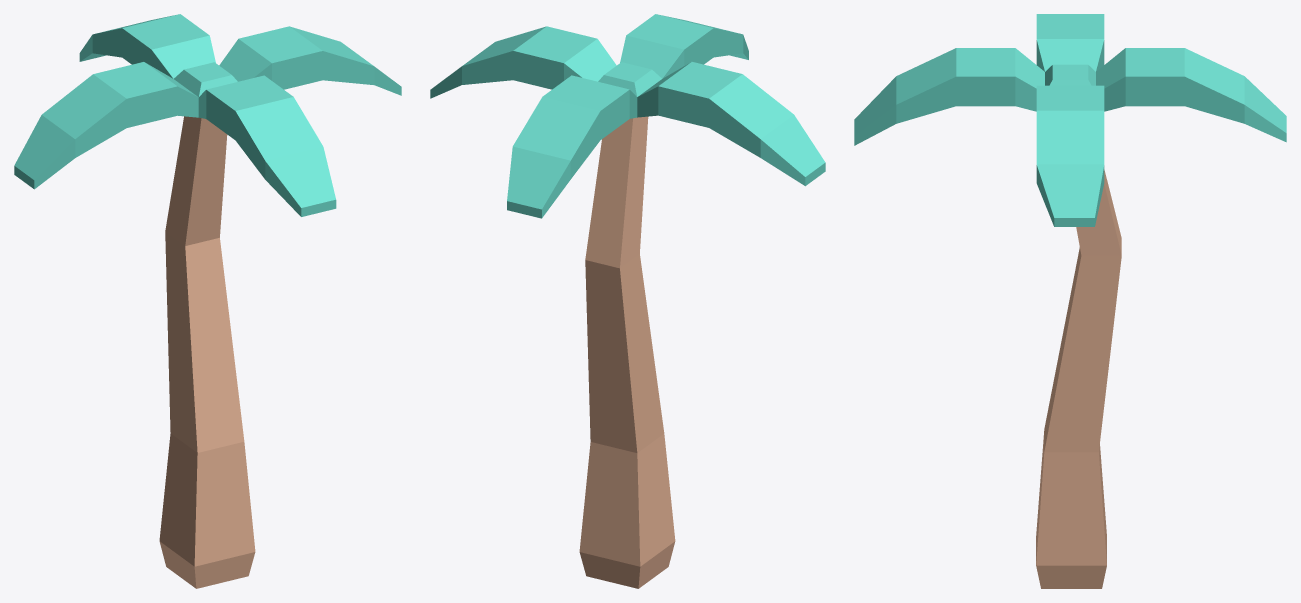
File: palm.glb
3 renders of one model, left to right at view 1: azimuth 30°, elevation 25°; view 2: azimuth 150°, elevation 25°; view 3: azimuth 270°, elevation 25°, orthographic.
Visible parts, largest first — view 1: tree_palmTall; view 2: tree_palmTall; view 3: tree_palmTall.
Boxes of the visible parts, x1,y1,x2,y2 form: tree_palmTall: [14, 14, 401, 588]; tree_palmTall: [430, 14, 825, 588]; tree_palmTall: [854, 14, 1286, 588].
Size of the model in its own units: 1.03 by 1.36 by 1.03.
